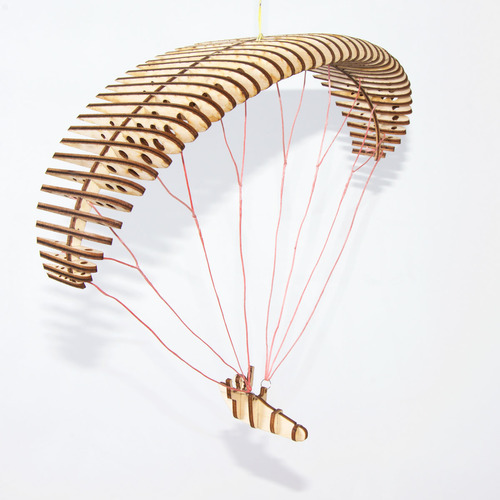Paraglider: (30, 37, 436, 297)
